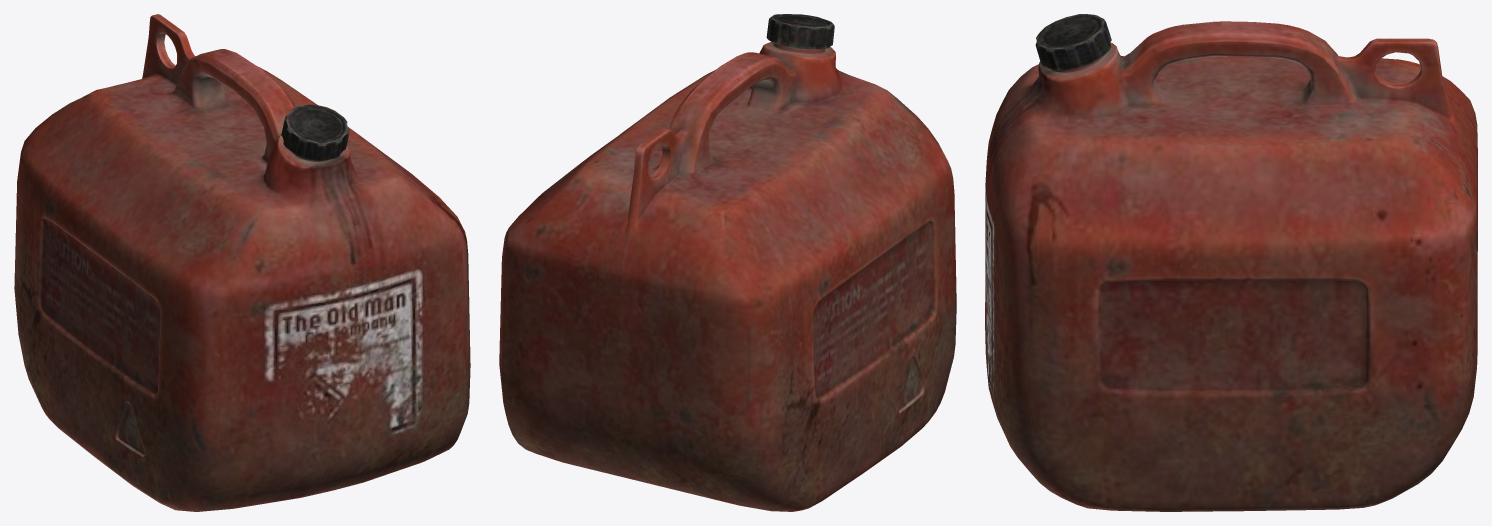
Rendered from plastic_jerrycan.glb.
The picture shows the model from 3 angles, left to right: view 1: azimuth 30°, elevation 25°; view 2: azimuth 150°, elevation 25°; view 3: azimuth 270°, elevation 25°; orthographic projection. The views are drawn at different scales.
Parts seen in each view (by area): view 1: plastic_jerrycan; view 2: plastic_jerrycan; view 3: plastic_jerrycan.
Part boxes in pixels (x1,y1,x2,y2): plastic_jerrycan: (14,14,470,511); plastic_jerrycan: (499,14,956,511); plastic_jerrycan: (985,14,1477,511).
Bounding box in the file's own units: 0.268 × 0.3184 × 0.3408.
Materials: 1 (1 with a texture image).
